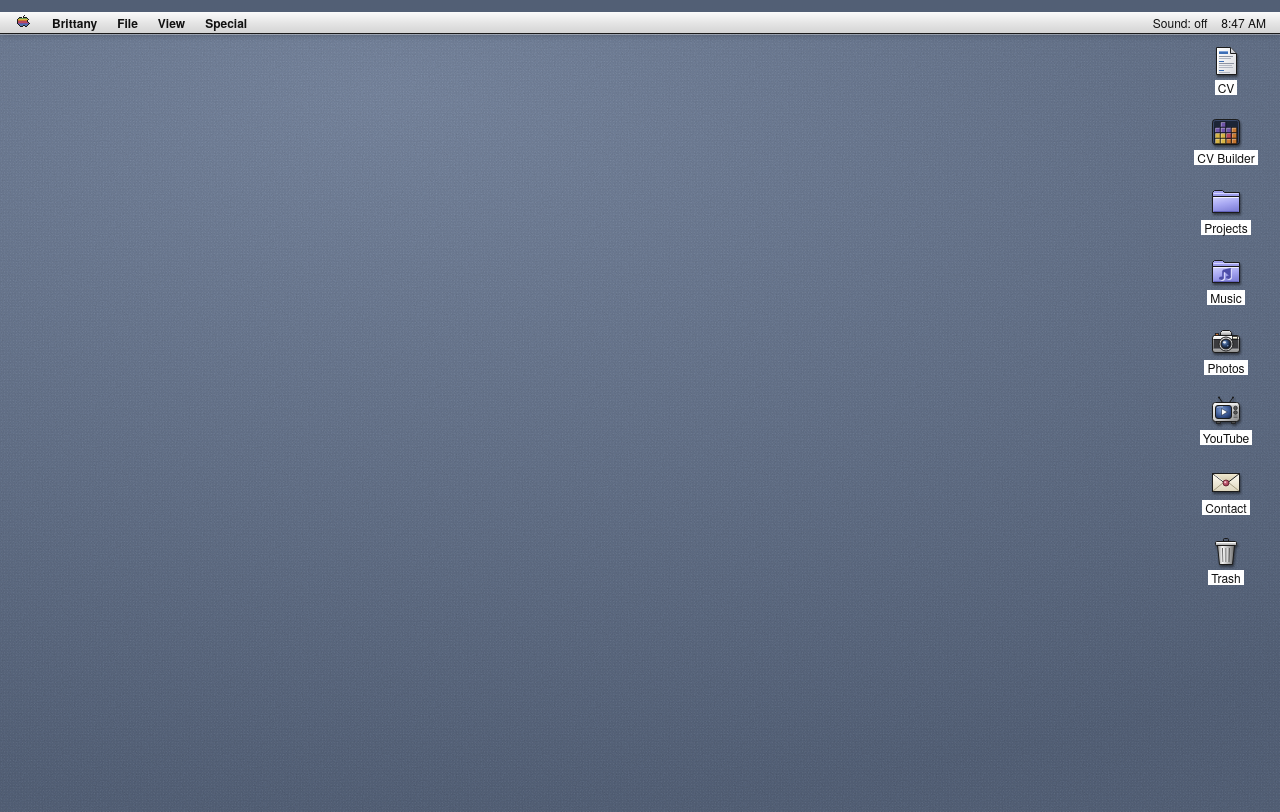
Scenario: Photos album list › holds only its title with no album that has items
The width and height of the screenshot is (1280, 812).
Double-click the button "Photos": (1226, 350) [1180,322,1272,378]
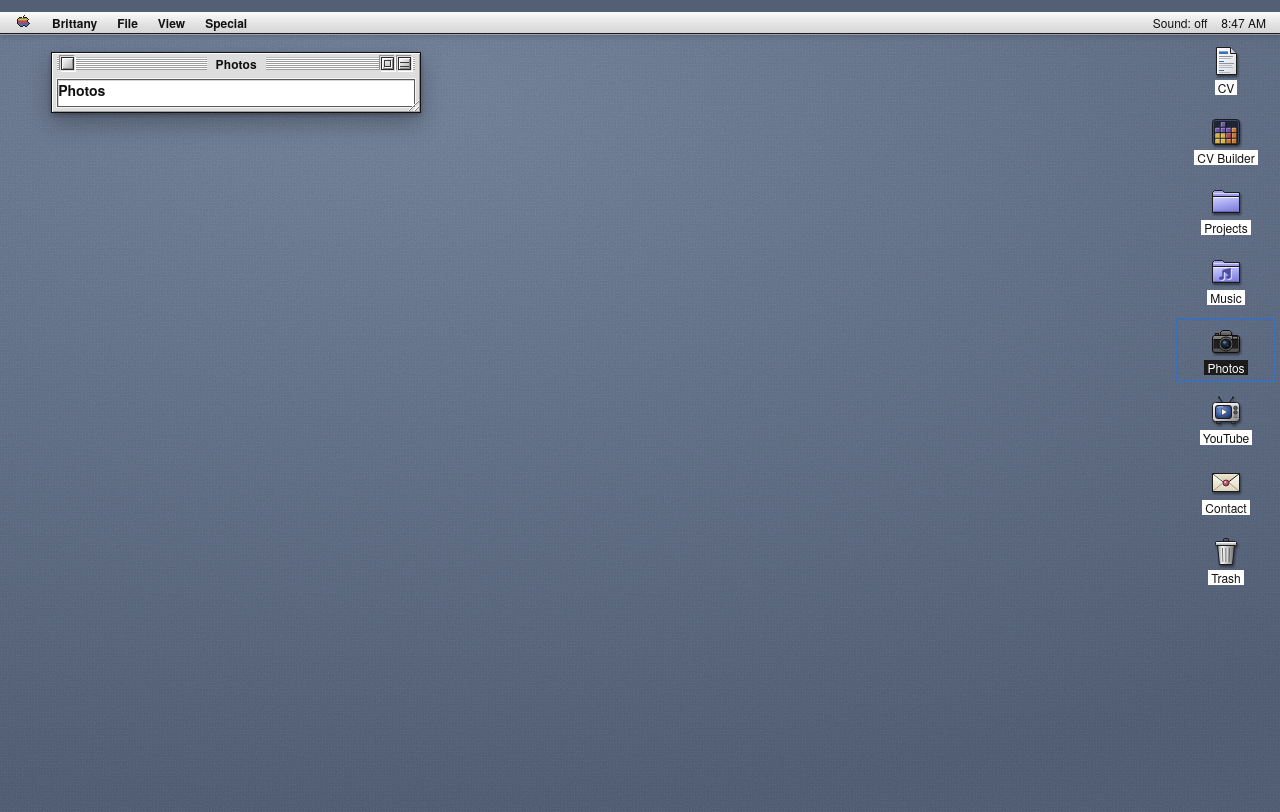
Expected: the element with class "body" reads "Photos", [58,80,105,100]
